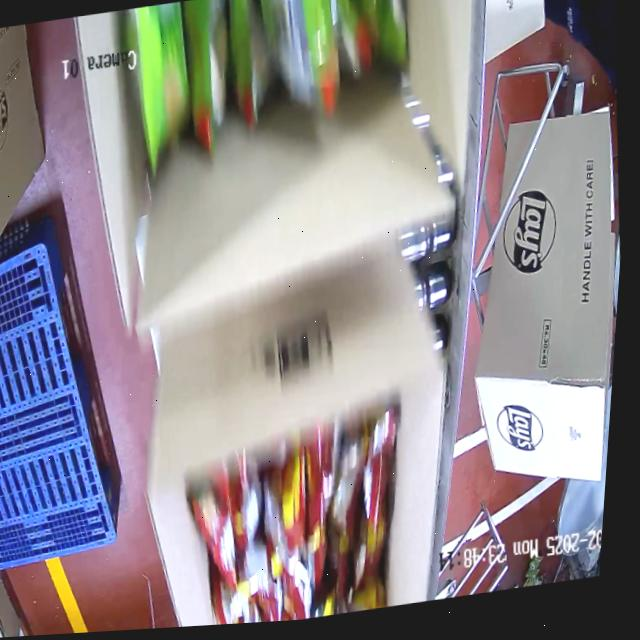MASALA: (173, 399, 421, 627)
